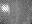person: (1, 5, 10, 14)
